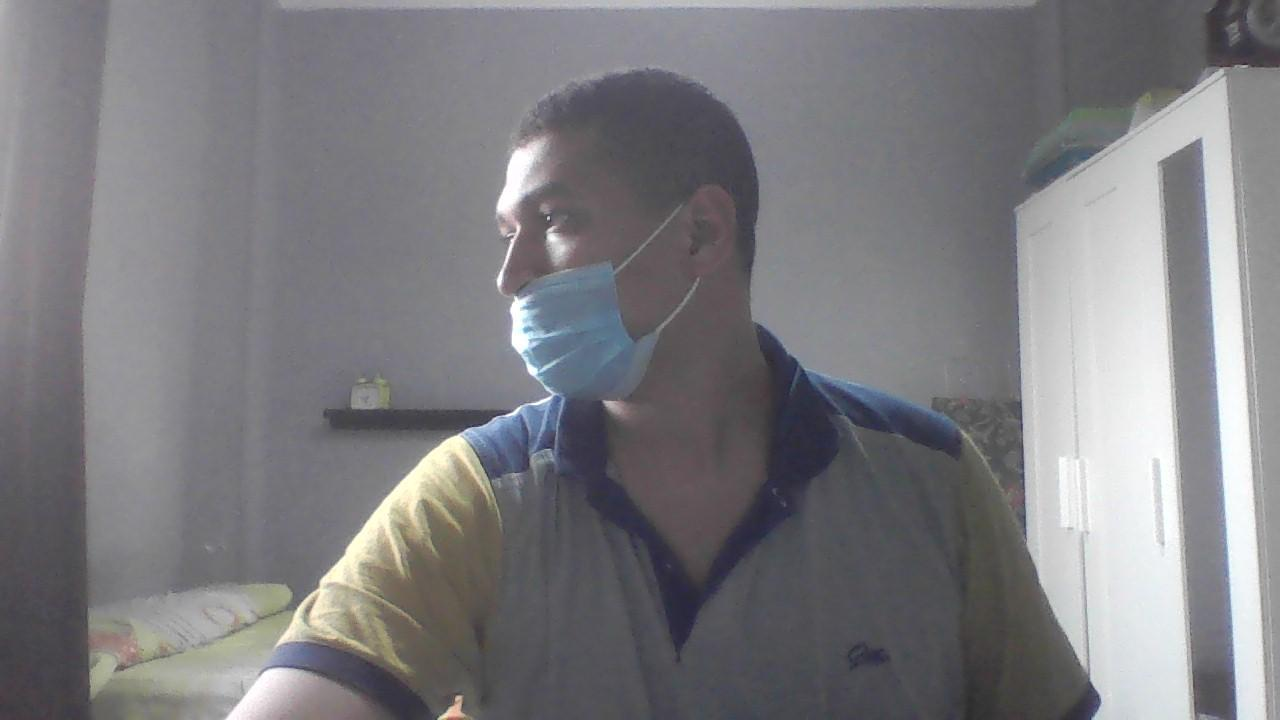mask_weared_incorrect: (490, 124, 718, 442)
